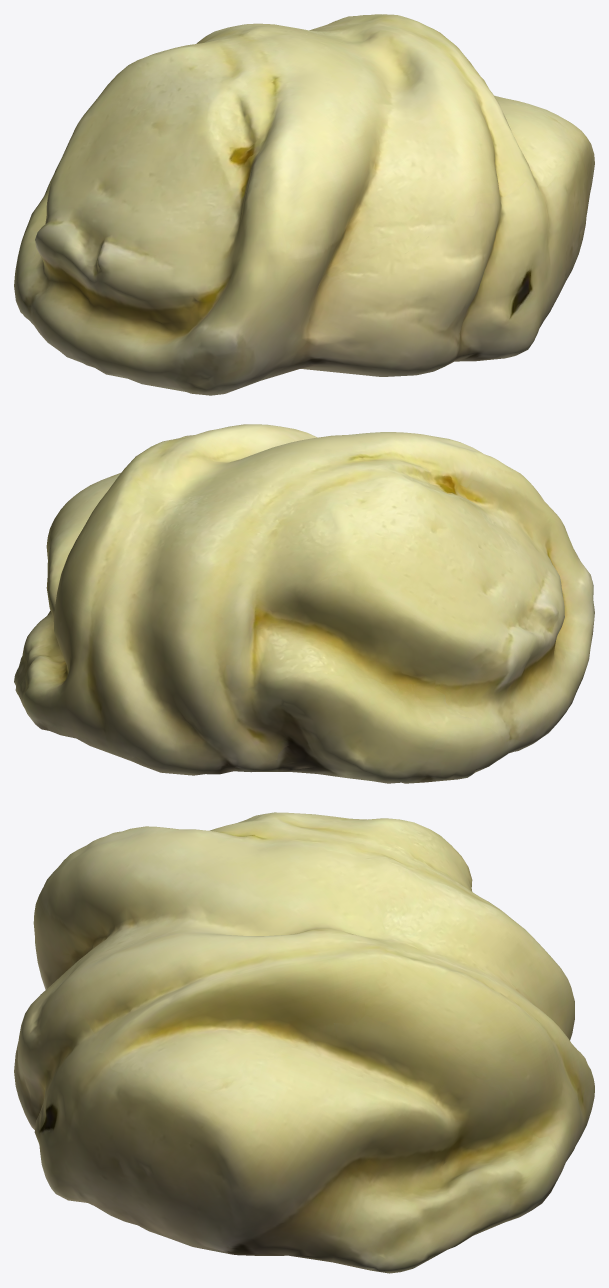
The model's file is 葱油花卷.glb.
3 renders of one model, top to bottom at view 1: azimuth 30°, elevation 25°; view 2: azimuth 150°, elevation 25°; view 3: azimuth 270°, elevation 25°, orthographic. The views are drawn at different scales.
Visible parts, largest first — view 1: 葱油花卷.usdz; view 2: 葱油花卷.usdz; view 3: 葱油花卷.usdz.
Boxes of the visible parts, left/top/right/bottom form: 葱油花卷.usdz: left=14, top=14, right=594, bottom=395; 葱油花卷.usdz: left=14, top=424, right=594, bottom=783; 葱油花卷.usdz: left=14, top=812, right=594, bottom=1273.
Bounding box in the file's own units: 0.1076 × 0.0523 × 0.0929.
1 material, 1 textured.
